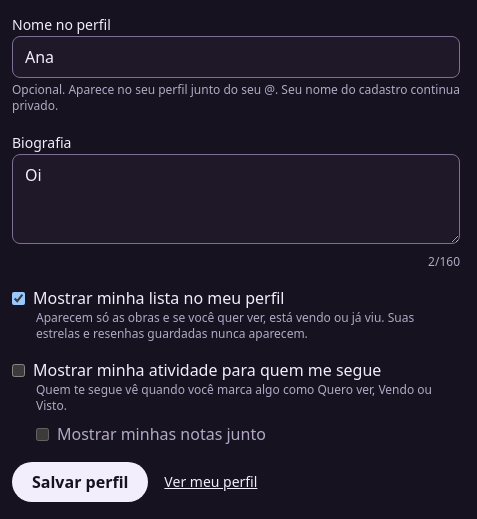
Scenario: ProfileForm › fills the saved values, counts bio characters and links to the profile
The width and height of the screenshot is (477, 519).
expect the field labelled "Nome no perfil" holds "Ana": met, box [12,36,460,78]
expect the checkbox labelled "Mostrar minha lista no meu perfil" is checked: met, box [12,292,25,304]
Replace the text in the text box labelled "Biografia" with "Gosto de terror": (236, 199) [12,154,460,244]
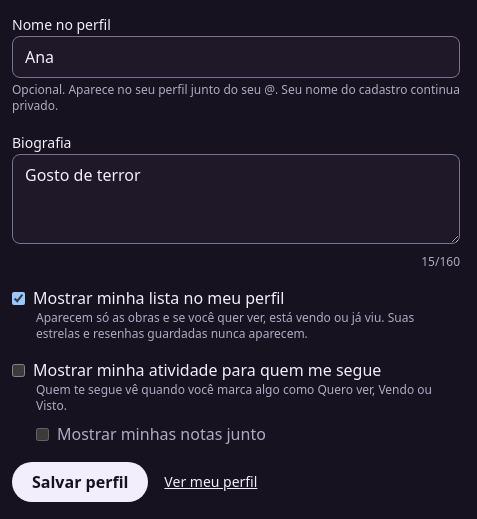
expect the text "15/160" is shown: met, box [421,253,460,270]
